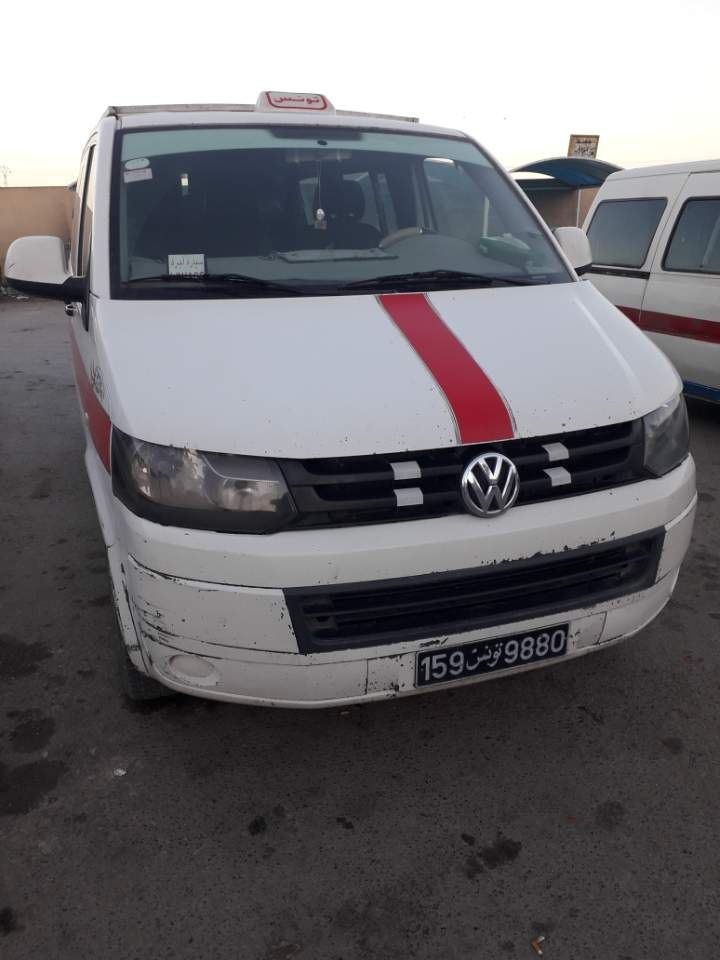LP: (413, 620, 569, 688)
